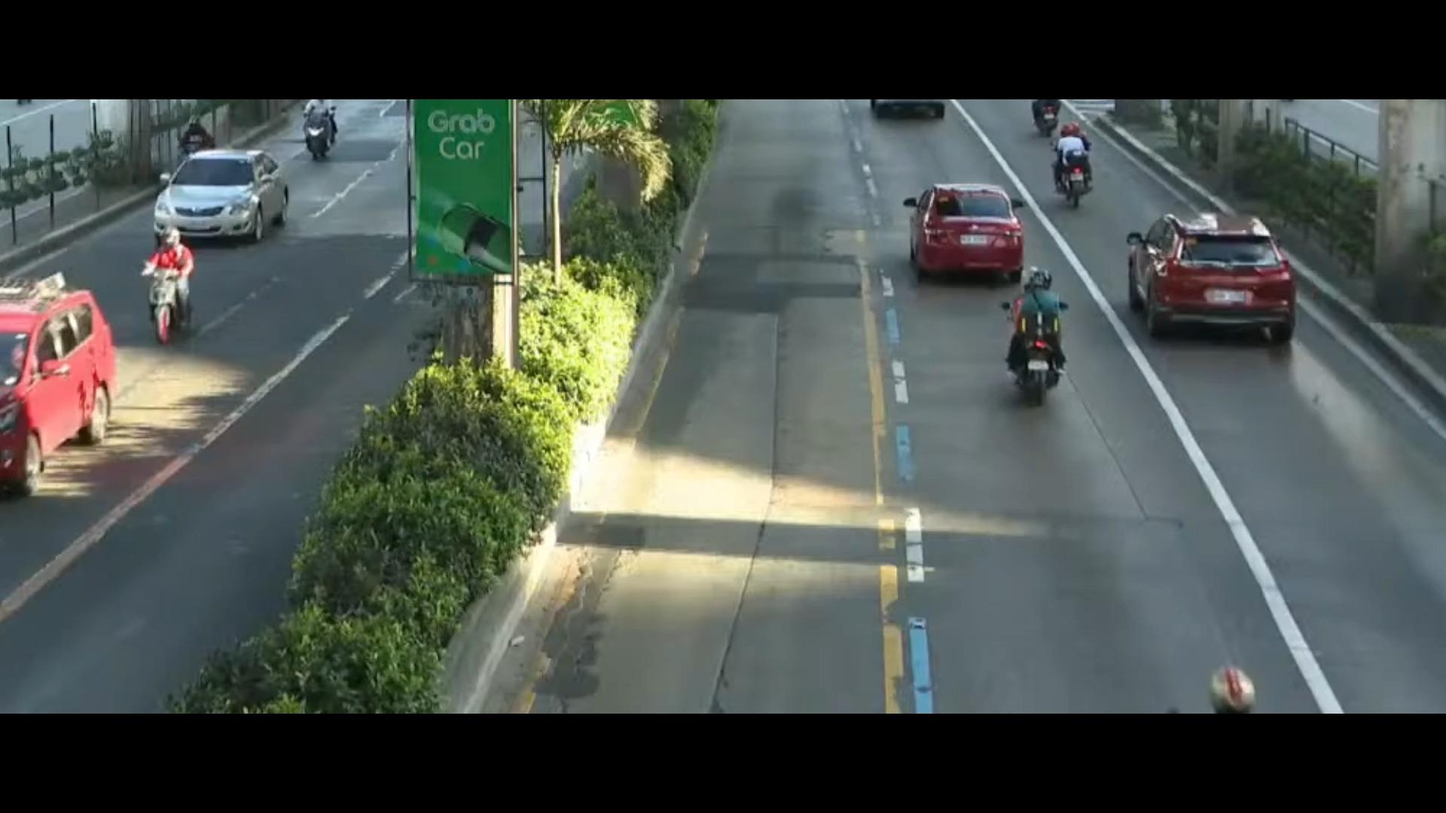Motorcycle: (983, 269, 1096, 410), (137, 228, 198, 339), (1043, 134, 1119, 217), (301, 91, 349, 160), (186, 111, 209, 139)
SUV: (0, 271, 151, 542), (1102, 200, 1325, 375)
Sedan: (915, 168, 1024, 298), (161, 138, 285, 243)
